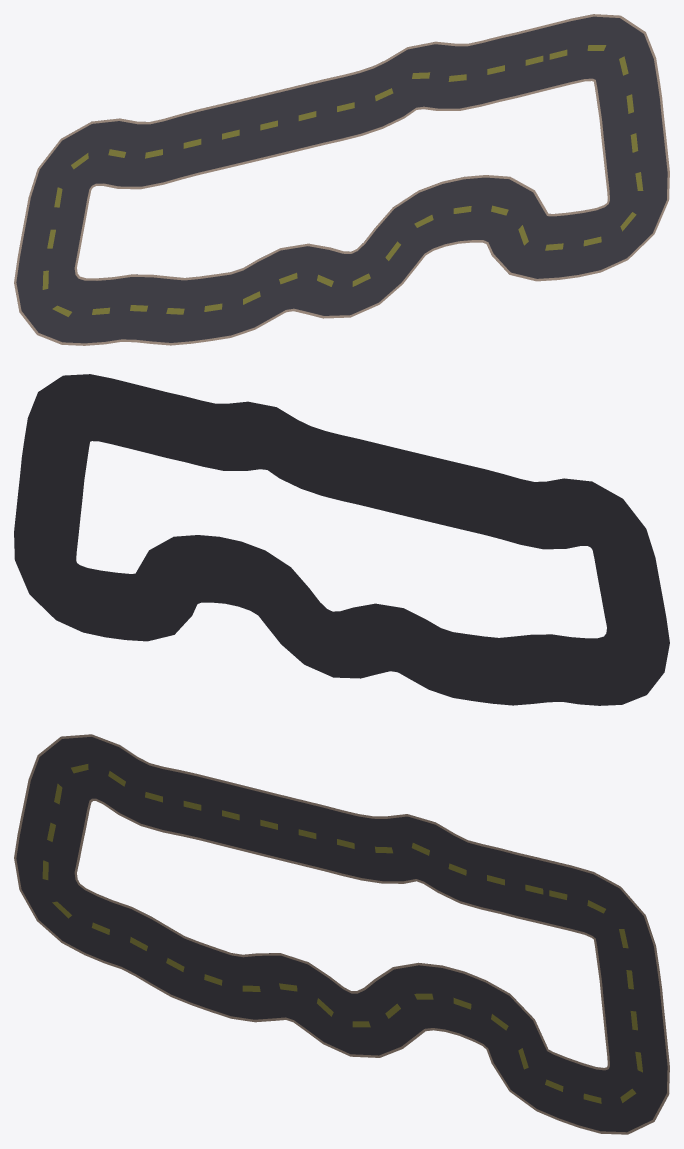
File: track.obj
The picture shows the model from 3 angles, top to bottom: view 1: azimuth 30°, elevation 25°; view 2: azimuth 150°, elevation 25°; view 3: azimuth 330°, elevation 25°; orthographic projection.
Bounding box in the file's own units: 11.12 × 4.46 × 0.002.
